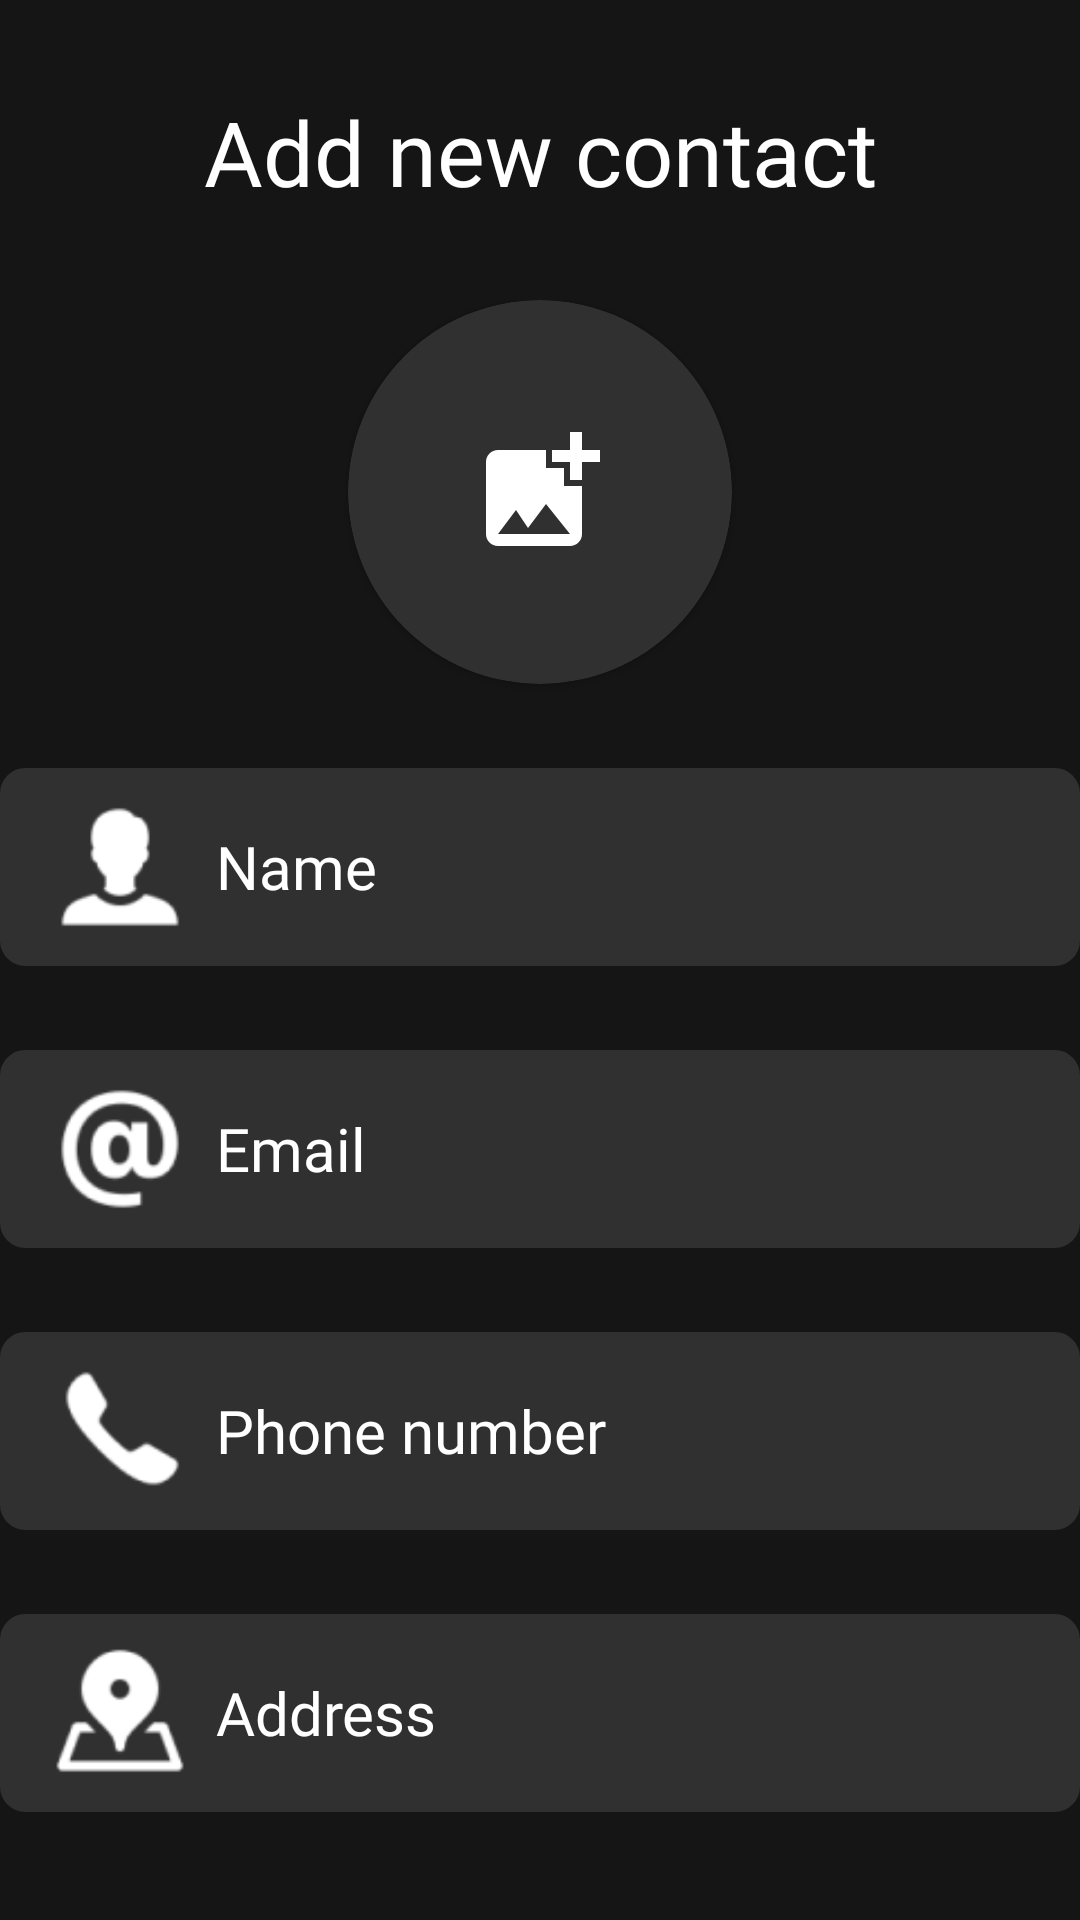

Where icons sit on this 1080x1920 app screen, as (x1,y1,x2,y2):
add photo: (486,432,600,546)
contact: (61,808,179,926)
